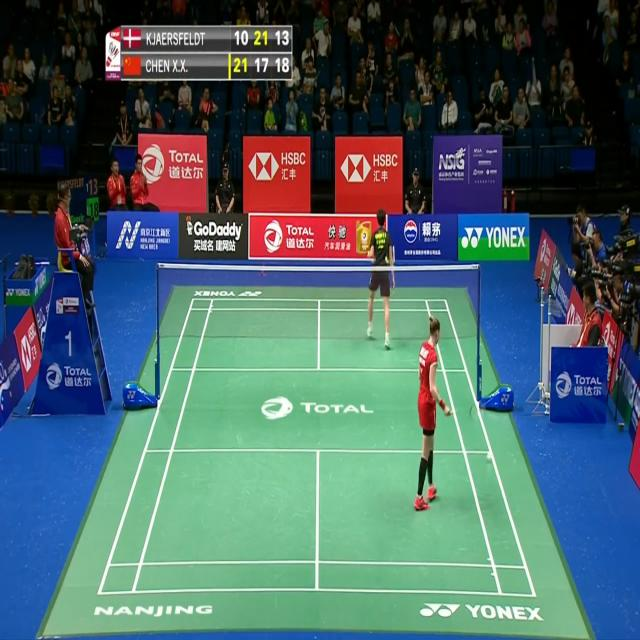Player1: (408, 310, 460, 522)
Player2: (364, 204, 396, 350)
